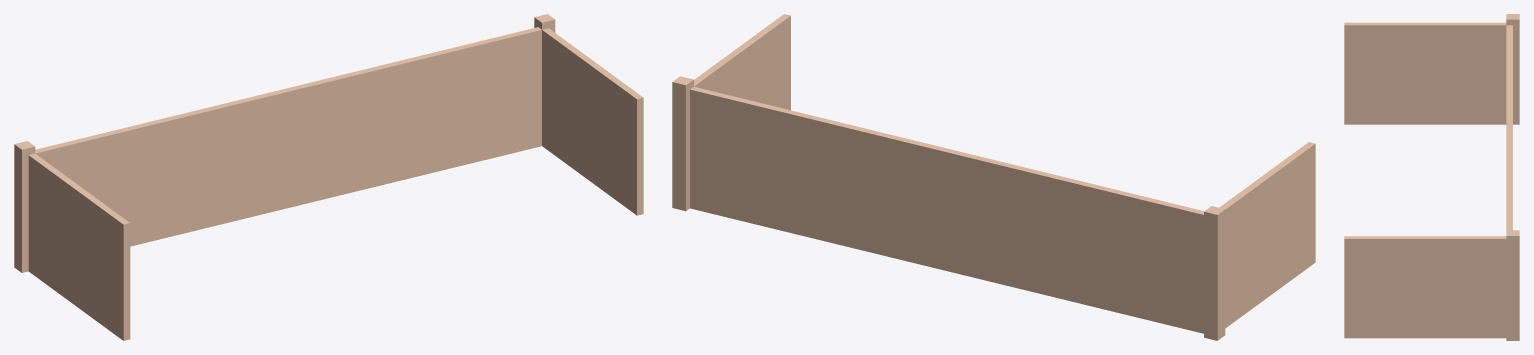
File: fence_short.glb
The picture shows the model from 3 angles, left to right: view 1: azimuth 30°, elevation 25°; view 2: azimuth 150°, elevation 25°; view 3: azimuth 270°, elevation 25°; orthographic projection. The views are drawn at different scales.
Visible parts, largest first — view 1: fence_short; view 2: fence_short; view 3: fence_short.
Part boxes in pixels (x1=…): fence_short: x1=14, y1=14, x2=643, y2=340; fence_short: x1=672, y1=14, x2=1315, y2=340; fence_short: x1=1344, y1=14, x2=1519, y2=340.
Size of the model in its own units: 1.2 by 0.265 by 0.4.
